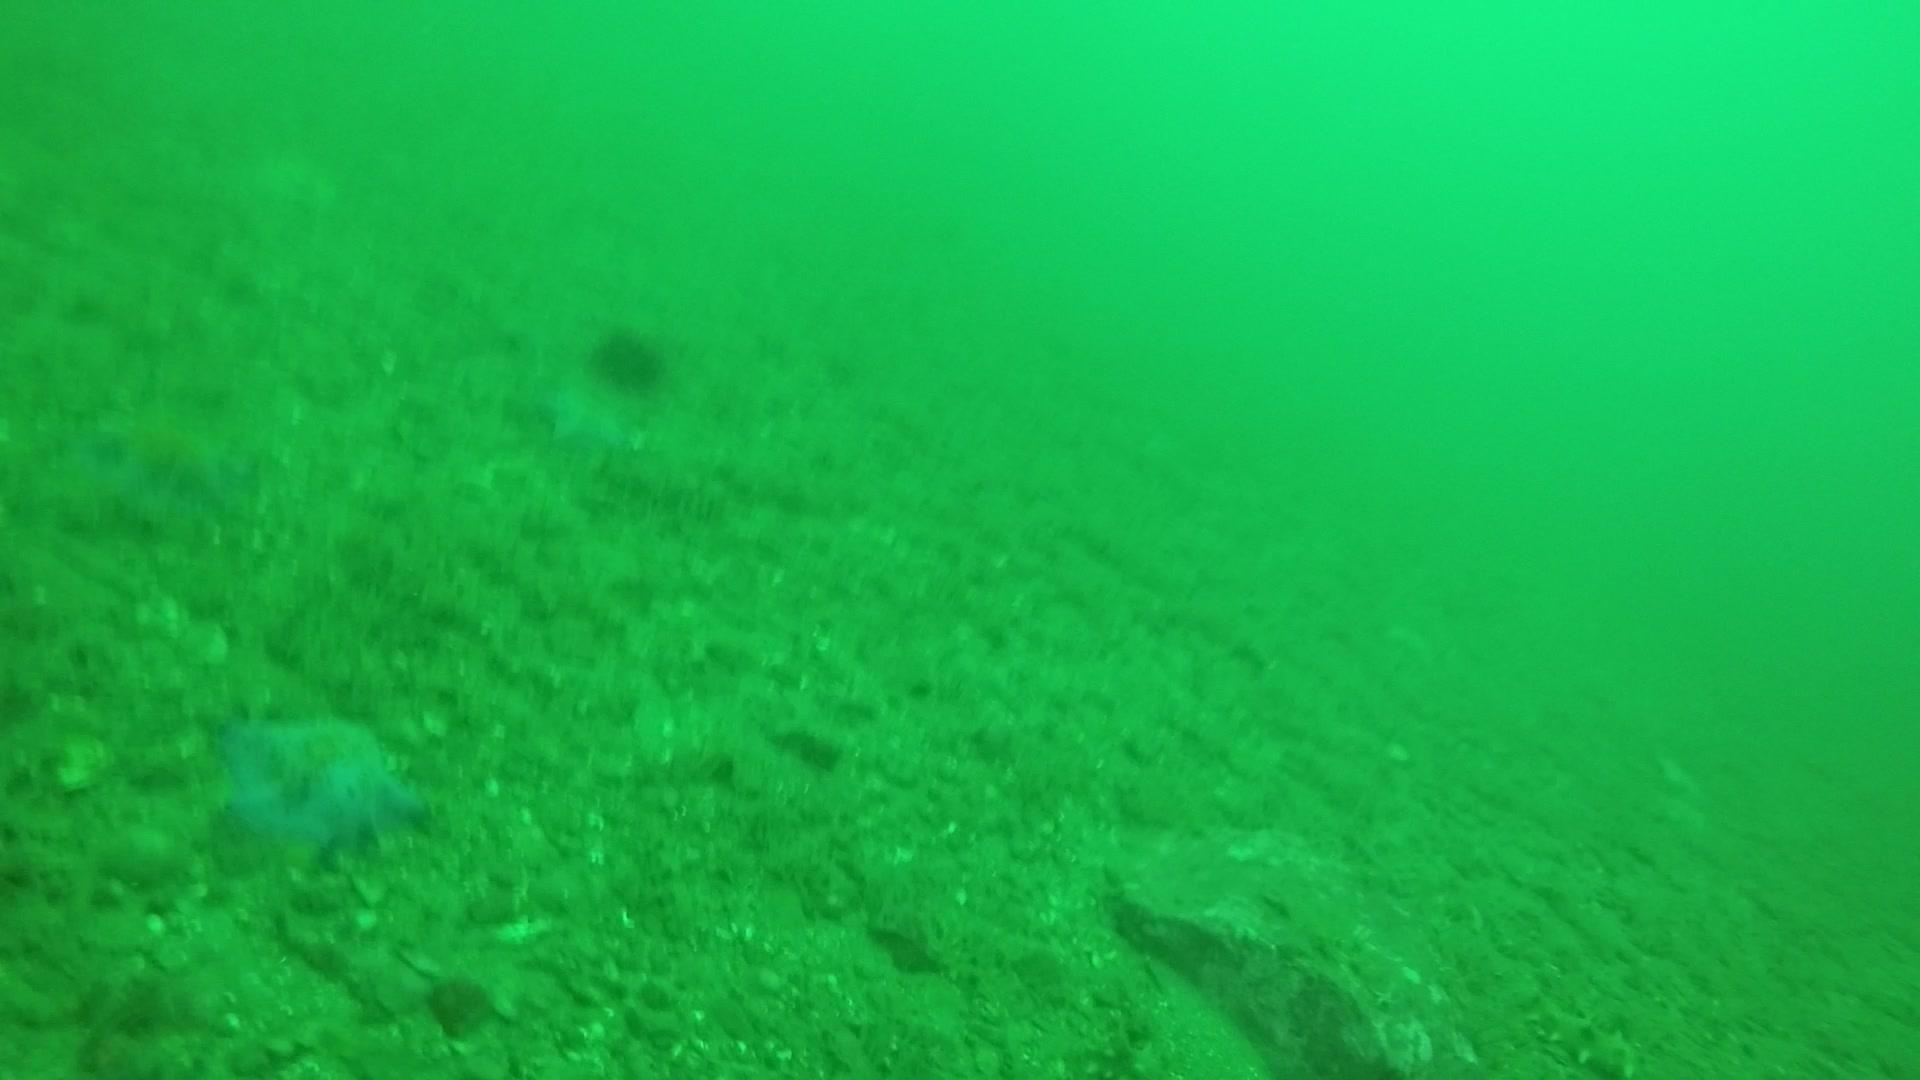echinus: (587, 320, 670, 394)
holothurian: (1510, 992, 1650, 1076), (593, 447, 728, 531), (713, 450, 858, 526)
starfish: (206, 700, 435, 877), (76, 388, 262, 529), (531, 369, 640, 458)
